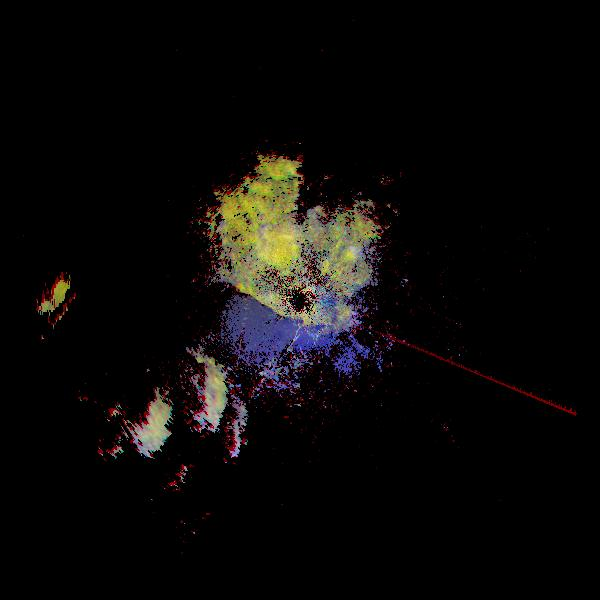roost: (159, 376, 261, 478), (143, 344, 239, 440), (85, 372, 175, 462)
